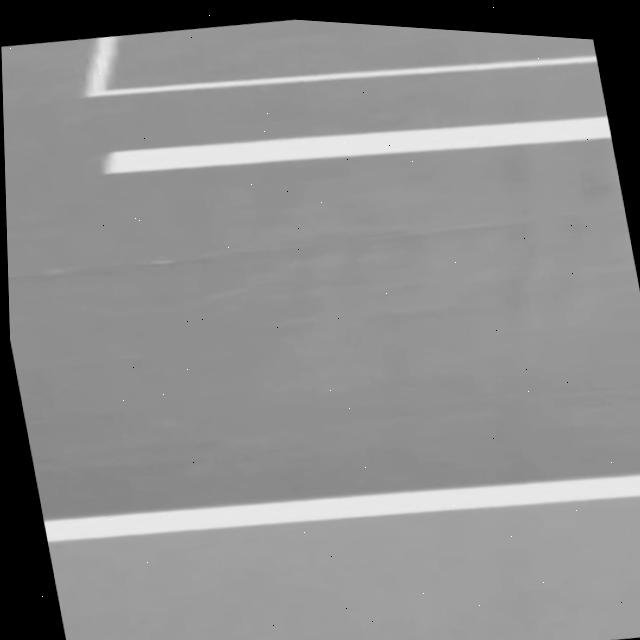center: (103, 116, 612, 175)
left: (43, 475, 640, 543)
